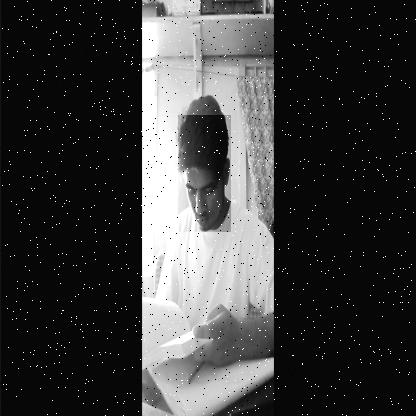Distracted: (178, 115, 231, 232)
